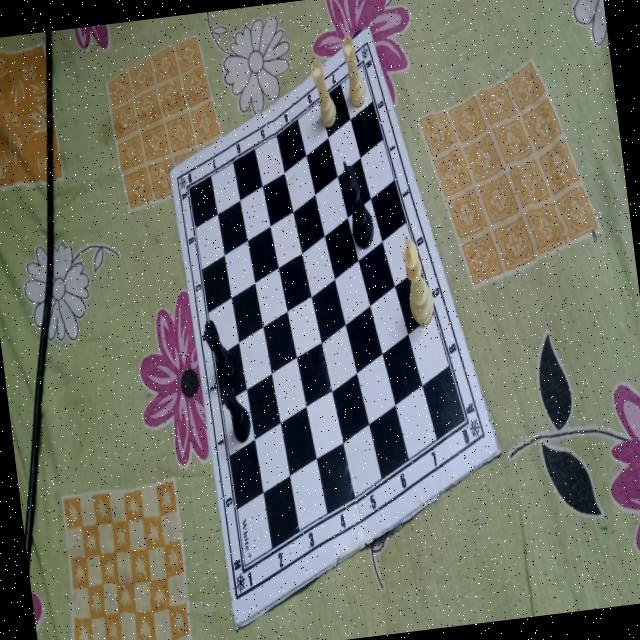corners: (226, 612, 244, 636), (162, 158, 176, 184), (490, 440, 504, 464), (362, 17, 376, 40)
